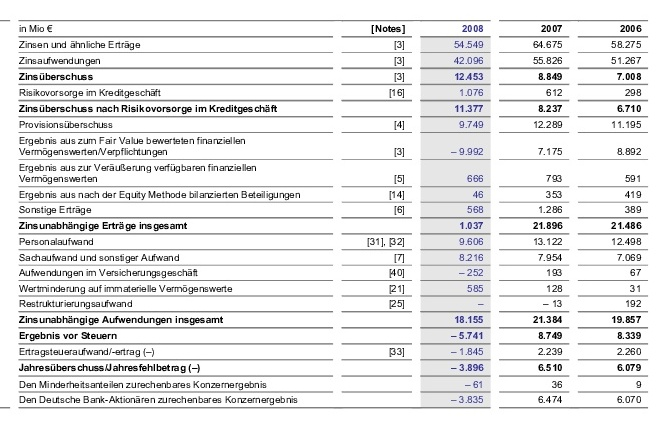table: (0, 0, 671, 428)
